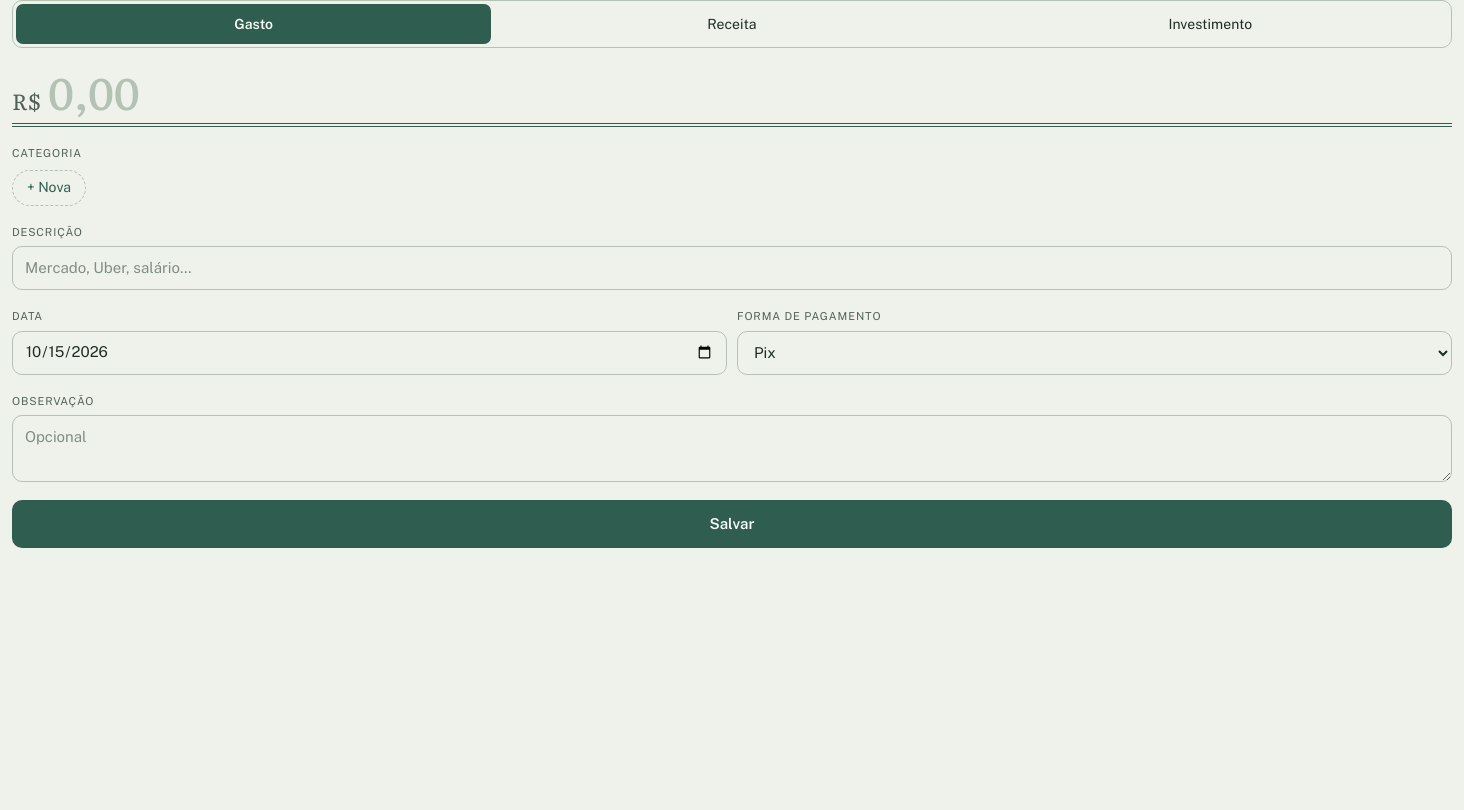
Scenario: TransactionForm › não envia sem valor válido nem sem categoria, e explica o motivo
The image size is (1464, 810).
Click the button "Salvar" at (732, 524), box [12,500,1452,548]
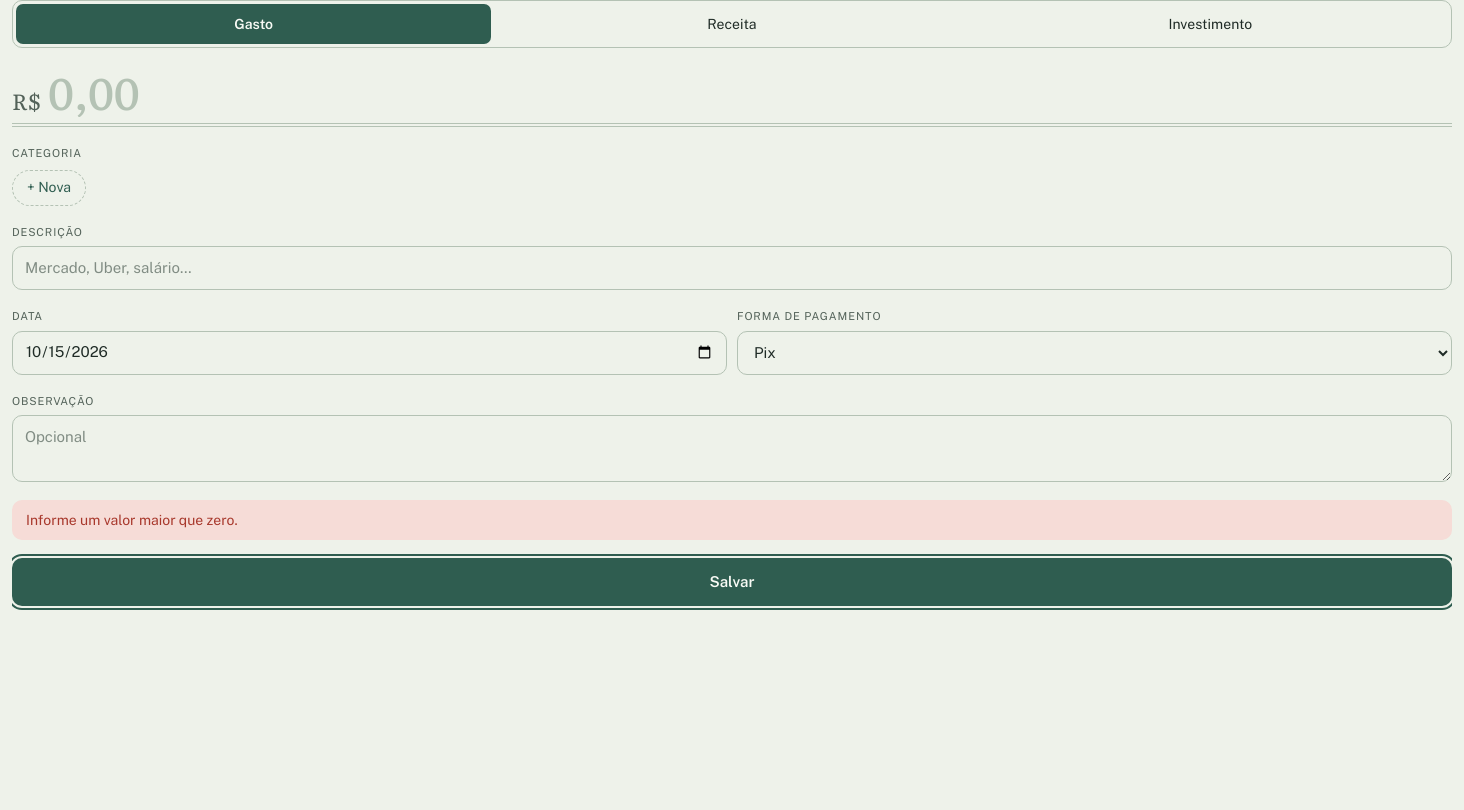
Now the message reads "Informe um valor maior que zero.", box [26,512,238,528]
Type "10" into the field named "Valor" at (750, 91), box [48,66,1452,117]
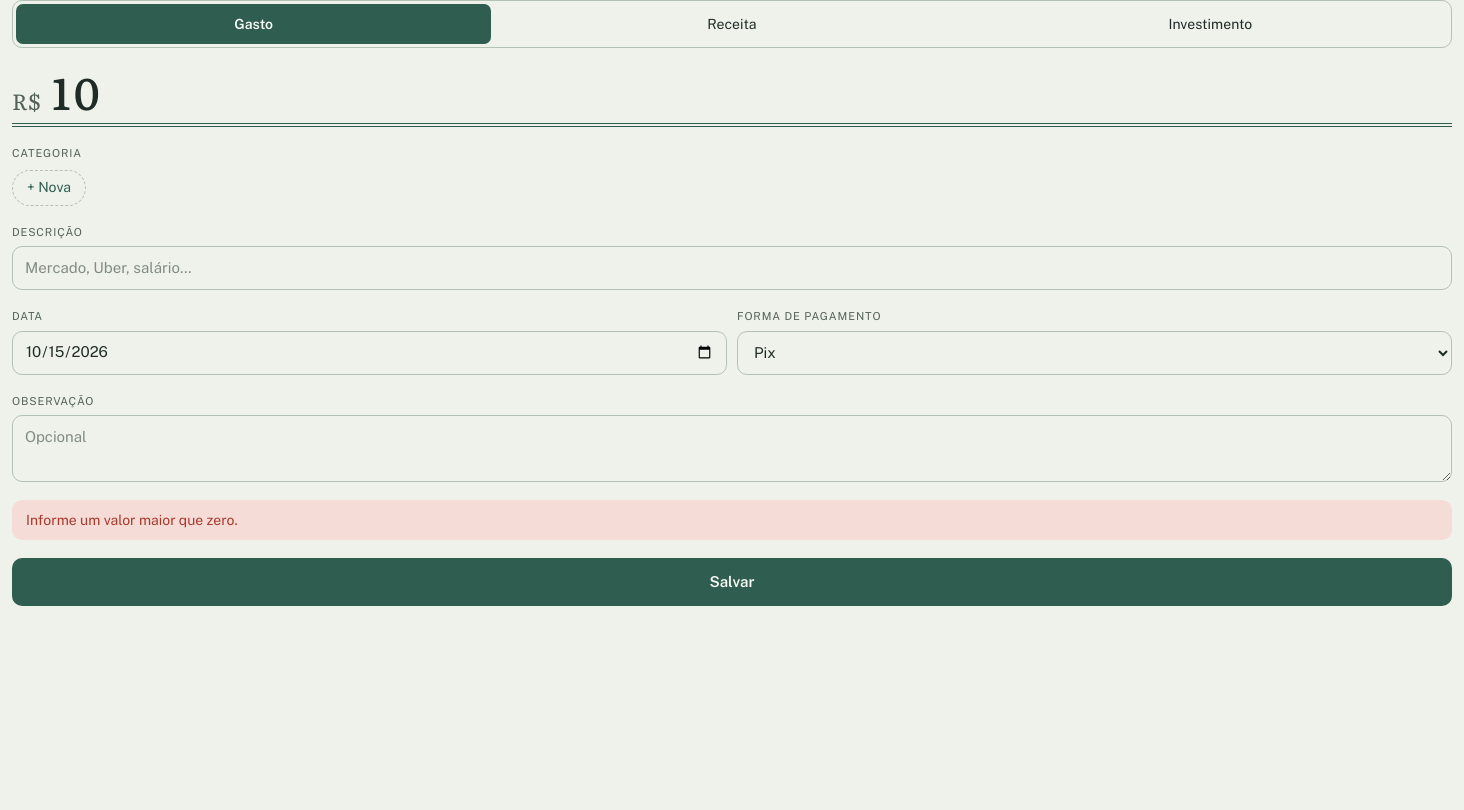
Click the button "Salvar" at (732, 582), box [12,558,1452,606]
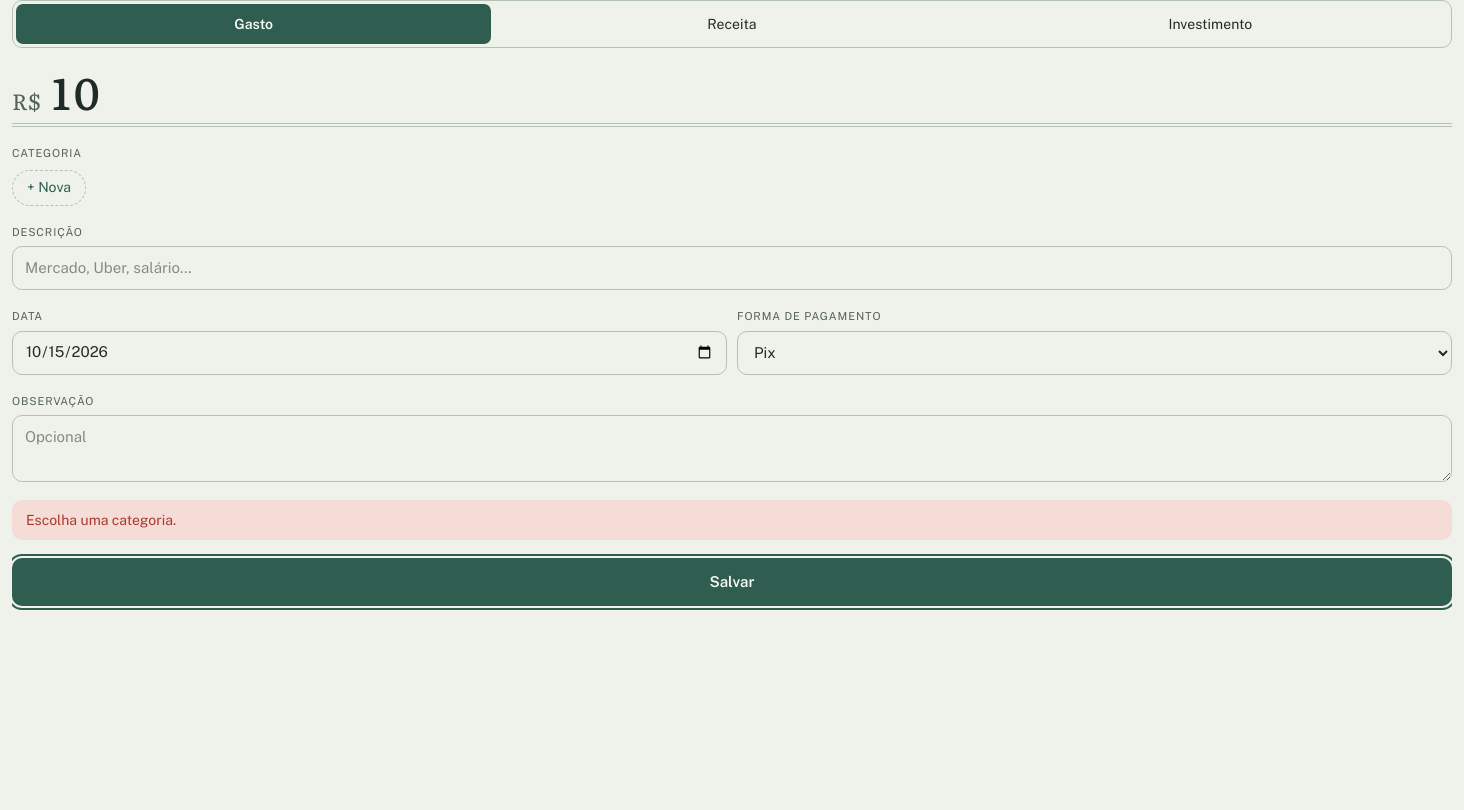
Now the message reads "Escolha uma categoria.", box [26,512,176,528]
